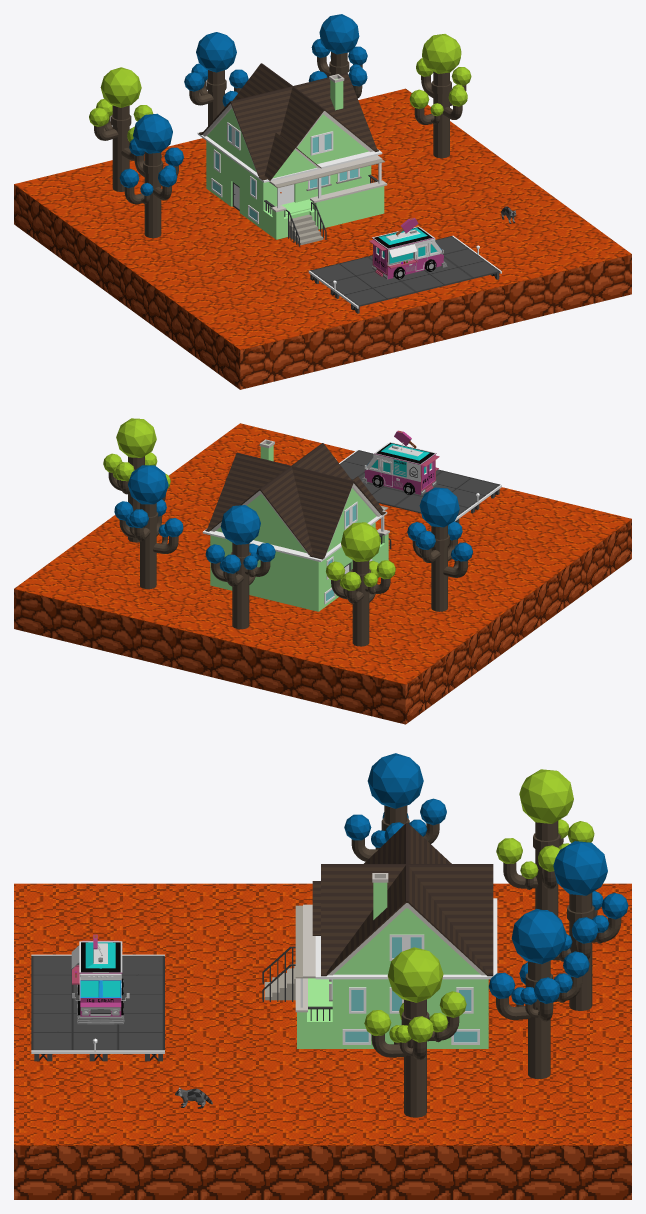
3 renders of one model, top to bottom at view 1: azimuth 30°, elevation 25°; view 2: azimuth 150°, elevation 25°; view 3: azimuth 270°, elevation 25°, orthographic. The views are drawn at different scales.
Visible parts, largest first — view 1: Cube.001, Cube.274, VEHICLES_ICE_CREAM_TRUCK; view 2: Cube.001, Cube.274, VEHICLES_ICE_CREAM_TRUCK; view 3: Cube.001, Cube.274, VEHICLES_ICE_CREAM_TRUCK.
Boxes of the visible parts, x1=… form: Cube.001: x1=14, y1=14, x2=631, y2=389; Cube.274: x1=197, y1=63, x2=387, y2=246; VEHICLES_ICE_CREAM_TRUCK: x1=369, y1=218, x2=447, y2=279; Cube.001: x1=14, y1=418, x2=631, y2=724; Cube.274: x1=202, y1=439, x2=391, y2=611; VEHICLES_ICE_CREAM_TRUCK: x1=361, y1=430, x2=439, y2=494; Cube.001: x1=14, y1=753, x2=631, y2=1199; Cube.274: x1=262, y1=823, x2=497, y2=1048; VEHICLES_ICE_CREAM_TRUCK: x1=71, y1=934, x2=129, y2=1024.
Bounding box in the file's own units: 4000 × 1816 × 4000.
Materials: 38 (4 with a texture image).
